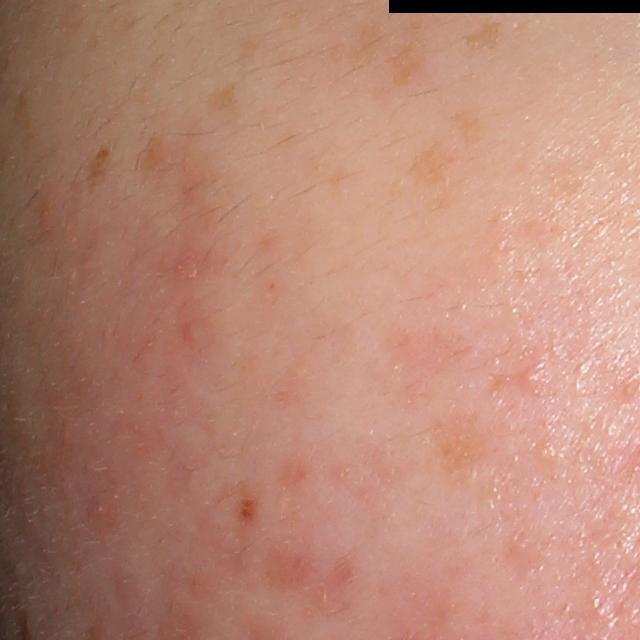comedo: (521, 367, 546, 386), (535, 442, 559, 460)
melasma: (137, 123, 221, 230), (344, 18, 433, 89), (409, 138, 463, 219), (202, 79, 250, 130), (457, 15, 506, 57), (452, 105, 486, 154), (84, 144, 115, 195), (229, 36, 258, 75)
